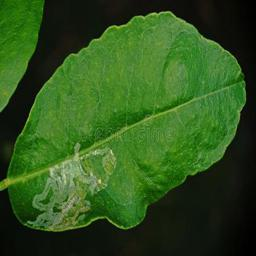liriomyza: (24, 141, 117, 232)
